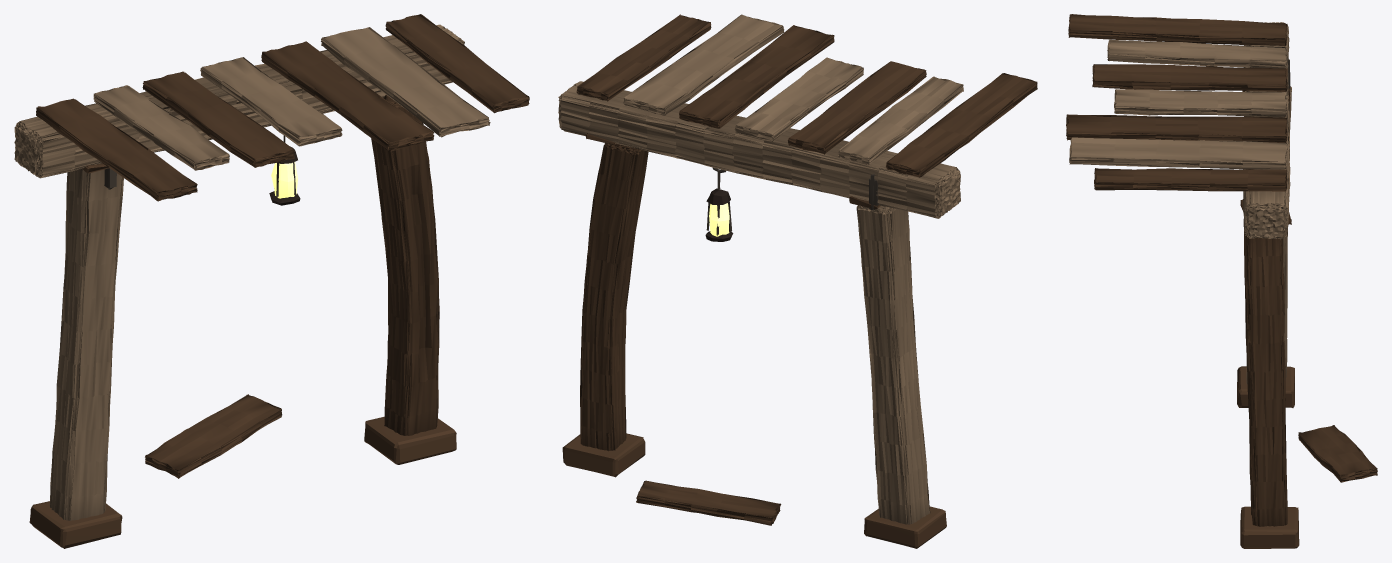
File: old_timbers.glb
3 views of the same model, side by side, from view 1: azimuth 30°, elevation 25°; view 2: azimuth 150°, elevation 25°; view 3: azimuth 270°, elevation 25° (orthographic). The views are drawn at different scales.
Visible parts, largest first — view 1: OldTimbers; view 2: OldTimbers; view 3: OldTimbers.
Boxes of the visible parts, box(x1,y1,x2,y2) form: OldTimbers: box(14, 14, 529, 548); OldTimbers: box(558, 14, 1037, 548); OldTimbers: box(1066, 14, 1377, 548).
Bounding box in the file's own units: 2.54 × 2.43 × 1.85.
